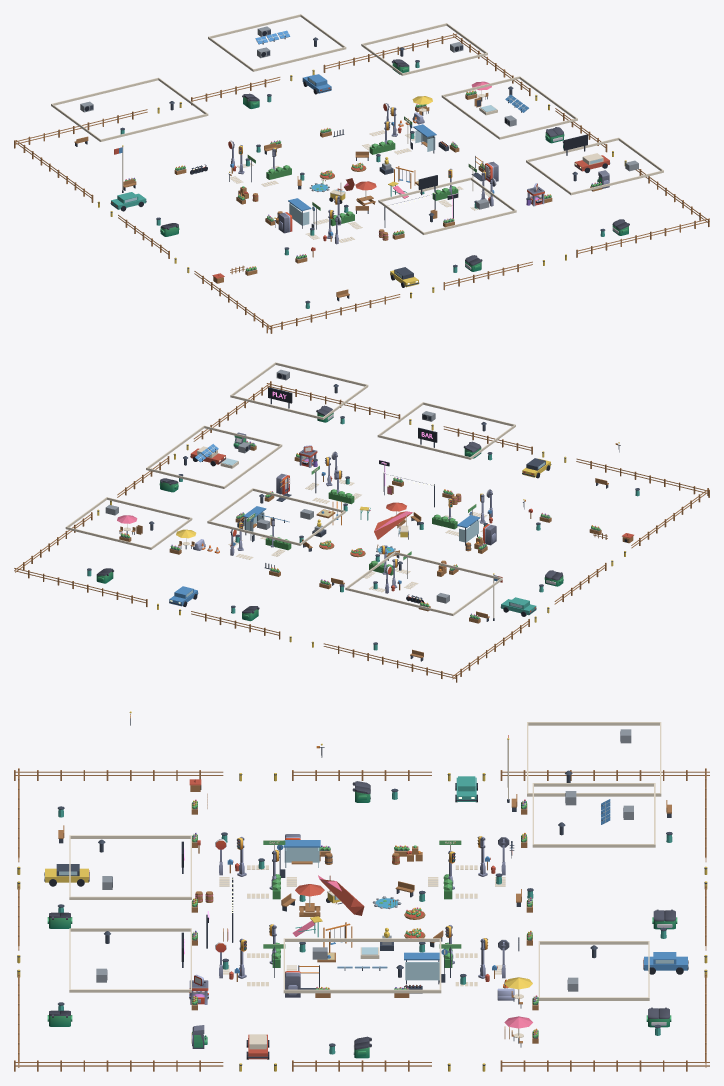
The model's file is city_details.glb.
The picture shows the model from 3 angles, top to bottom: view 1: azimuth 30°, elevation 25°; view 2: azimuth 150°, elevation 25°; view 3: azimuth 270°, elevation 25°; orthographic projection. The views are drawn at different scales.
Visible parts, largest first — view 1: city_details, building_office__roof, building_gym__roof, building_arcade__roof, building_bar__roof, building_school__roof, building_cafe__roof; view 2: city_details, building_gym__roof, building_arcade__roof, building_bar__roof, building_office__roof, building_school__roof, building_cafe__roof; view 3: city_details, building_gym__roof, building_office__roof, building_arcade__roof, building_school__roof, building_bar__roof, building_cafe__roof.
Boxes of the visible parts, x1,y1,x2,y2 form: city_details: [14, 33, 709, 333]; building_office__roof: [208, 14, 346, 71]; building_gym__roof: [441, 76, 577, 139]; building_arcade__roof: [526, 134, 663, 195]; building_bar__roof: [378, 175, 516, 234]; building_school__roof: [51, 77, 208, 141]; building_cafe__roof: [361, 23, 487, 75]; city_details: [14, 381, 709, 682]; building_gym__roof: [146, 425, 282, 488]; building_arcade__roof: [230, 362, 368, 419]; building_bar__roof: [377, 402, 515, 459]; building_office__roof: [207, 488, 345, 545]; building_school__roof: [345, 551, 502, 615]; building_cafe__roof: [65, 497, 192, 549]; city_details: [14, 735, 709, 1071]; building_gym__roof: [283, 938, 441, 993]; building_office__roof: [532, 783, 655, 847]; building_arcade__roof: [69, 928, 191, 992]; building_school__roof: [527, 722, 661, 796]; building_bar__roof: [69, 835, 191, 899]; building_cafe__roof: [538, 941, 649, 1000].
Bounding box in the file's own units: 60.07 × 11.91 × 60.07.
29 materials, 8 textured.
